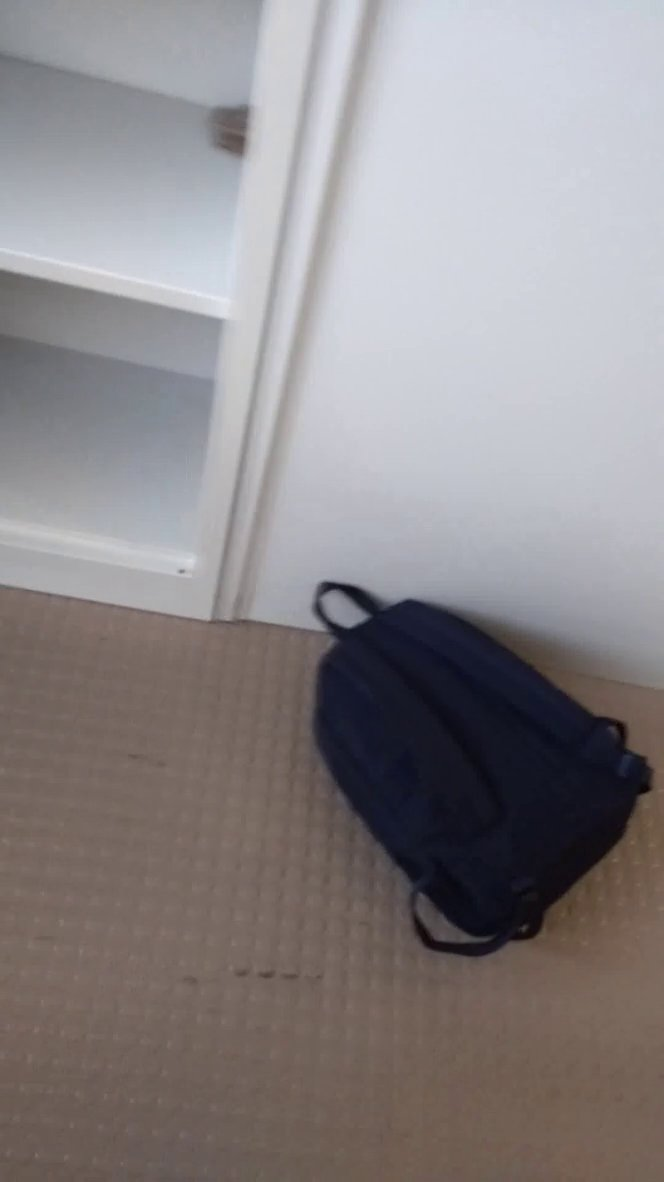bag: (305, 558, 659, 967)
